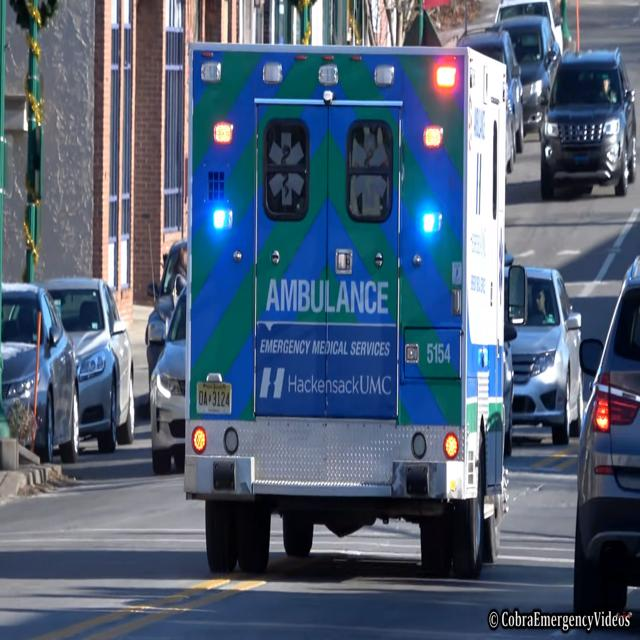emergency-vehicles: (167, 28, 529, 600)
